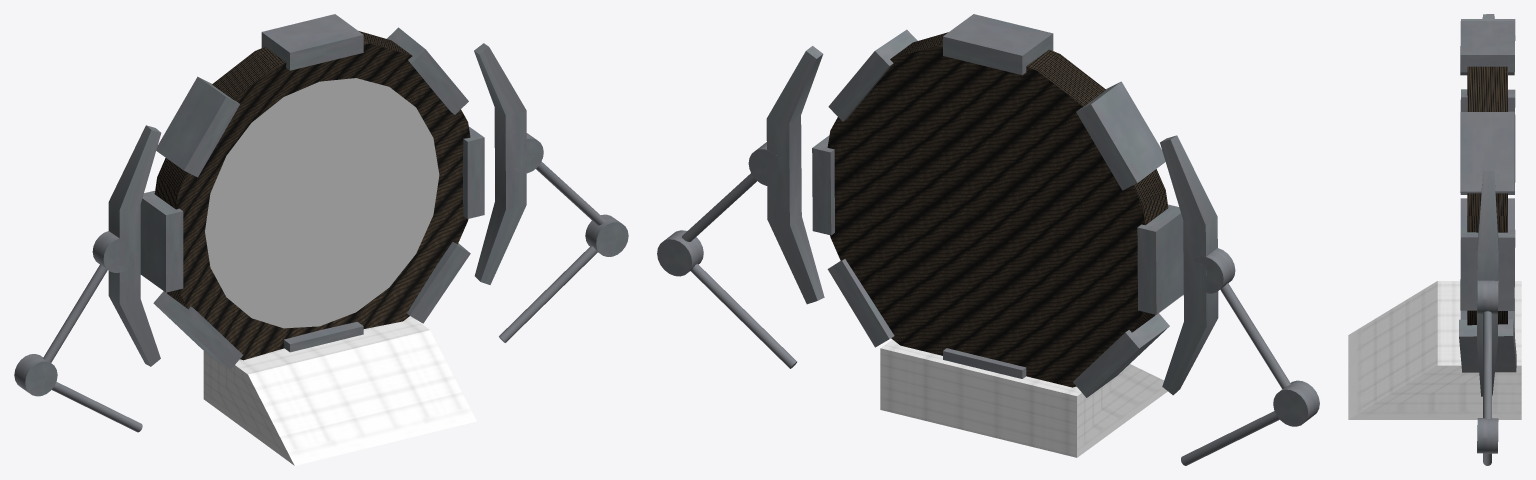
Rendered from Portal.fbx.
3 renders of one model, left to right at view 1: azimuth 30°, elevation 25°; view 2: azimuth 150°, elevation 25°; view 3: azimuth 270°, elevation 25°, orthographic. The views are drawn at different scales.
Visible parts, largest first — view 1: pCylinder2, pCube1, pCylinder1, Hold1, Hold, pCube5, pCube9, pCube4, pCube3, pCube6, pCube8, pCube7 (+8 smaller); view 2: pCylinder1, pCube1, Hold1, Hold, pCube5, pCube9, pCube4, pCube3, pCube6, pCube7, pCube8, pCylinder8 (+7 smaller); view 3: pCube1, pCube6, pCylinder1, Hold1, pCube7, pCube9, pCube8, pCylinder7, pCylinder9, pCylinder3, pCube3, pCube4 (+1 smaller).
Part boxes in pixels (x1=…): pCylinder2: x1=205, y1=78, x2=439, y2=328; pCube1: x1=203, y1=316, x2=476, y2=465; pCylinder1: x1=154, y1=31, x2=470, y2=360; Hold1: x1=474, y1=43, x2=526, y2=284; Hold: x1=108, y1=125, x2=161, y2=366; pCube5: x1=156, y1=76, x2=239, y2=177; pCube9: x1=261, y1=14, x2=363, y2=70; pCube4: x1=140, y1=190, x2=183, y2=292; pCube3: x1=153, y1=291, x2=242, y2=369; pCube6: x1=387, y1=27, x2=468, y2=114; pCube8: x1=407, y1=242, x2=470, y2=323; pCube7: x1=462, y1=126, x2=484, y2=218; pCylinder1: x1=827, y1=32, x2=1168, y2=387; pCube1: x1=880, y1=339, x2=1167, y2=457; Hold1: x1=766, y1=46, x2=824, y2=304; Hold: x1=1160, y1=135, x2=1218, y2=395; pCube5: x1=1076, y1=81, x2=1165, y2=190; pCube9: x1=943, y1=14, x2=1053, y2=75; pCube4: x1=1137, y1=204, x2=1183, y2=314; pCube3: x1=1073, y1=313, x2=1169, y2=397; pCube6: x1=828, y1=29, x2=917, y2=121; pCube7: x1=812, y1=135, x2=834, y2=235; pCube8: x1=827, y1=259, x2=894, y2=347; pCylinder8: x1=1273, y1=380, x2=1319, y2=426; pCube1: x1=1348, y1=281, x2=1521, y2=419; pCube6: x1=1460, y1=111, x2=1515, y2=194; pCylinder1: x1=1467, y1=66, x2=1507, y2=325; Hold1: x1=1477, y1=170, x2=1498, y2=396; pCube7: x1=1460, y1=229, x2=1515, y2=310; pCube9: x1=1460, y1=21, x2=1514, y2=72; pCube8: x1=1459, y1=319, x2=1516, y2=372; pCylinder7: x1=1483, y1=311, x2=1491, y2=418; pCylinder9: x1=1477, y1=418, x2=1498, y2=453; pCylinder3: x1=1477, y1=280, x2=1498, y2=314; pCube3: x1=1460, y1=198, x2=1514, y2=239; pCube4: x1=1460, y1=89, x2=1515, y2=112.
Bounding box in the file's own units: 17.52 × 9.9 × 4.58.
